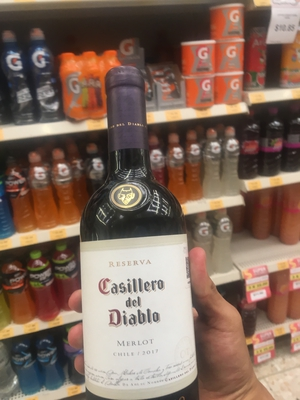casillero del diablo merlot: (73, 64, 199, 400)
